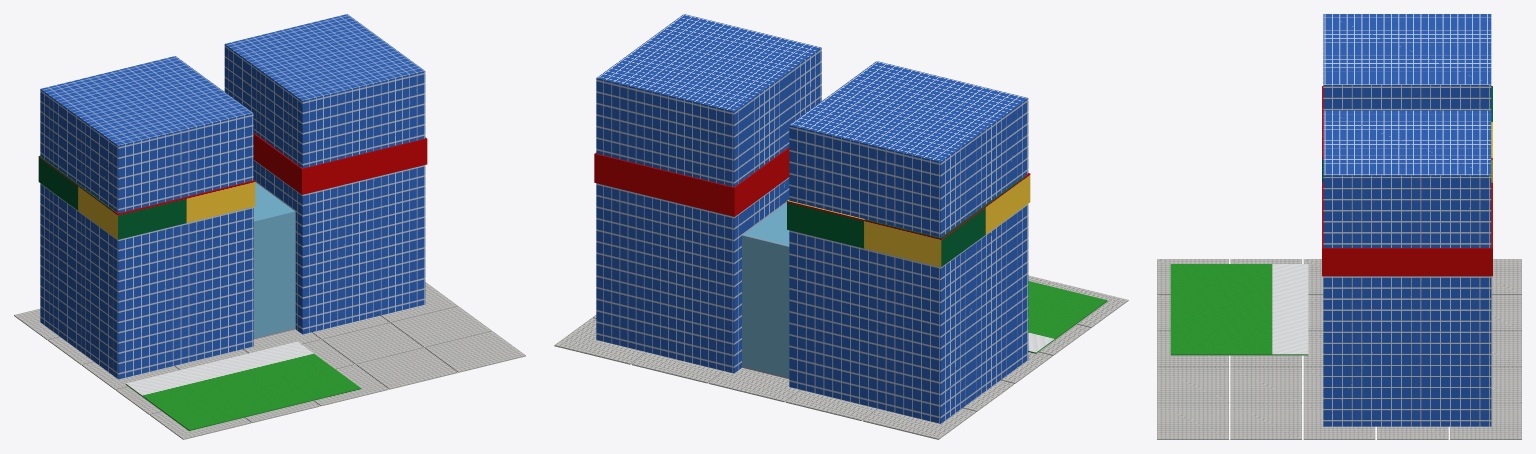
3 views of the same model, side by side, from view 1: azimuth 30°, elevation 25°; view 2: azimuth 150°, elevation 25°; view 3: azimuth 270°, elevation 25° (orthographic). The views are drawn at different scales.
Parts seen in each view (by area): view 1: 28185_B25_Utah_Mason_Campus; view 2: 28185_B25_Utah_Mason_Campus; view 3: 28185_B25_Utah_Mason_Campus.
Part boxes in pixels (box(x1,y1,x2,y2)): 28185_B25_Utah_Mason_Campus: box(14, 14, 525, 439); 28185_B25_Utah_Mason_Campus: box(554, 14, 1128, 439); 28185_B25_Utah_Mason_Campus: box(1157, 14, 1521, 439).
Size of the model in its own units: 55.8 by 36.5 by 47.8.
Materials: 1 (1 with a texture image).
